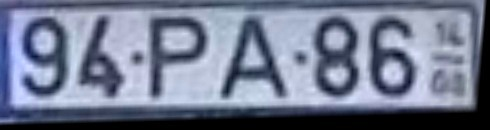4: (75, 15, 131, 104)
6: (368, 14, 421, 101)
8: (312, 13, 365, 103)
9: (19, 13, 72, 102)
A: (215, 14, 294, 104)
P: (147, 15, 213, 105)
